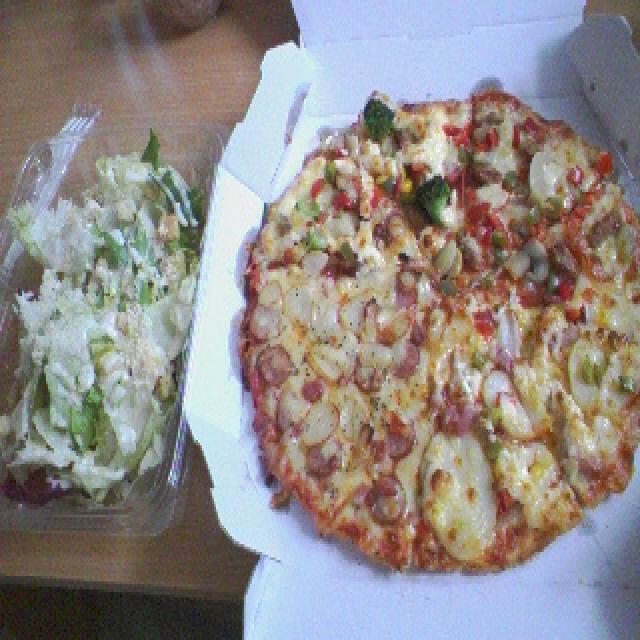Pizza: (225, 83, 640, 578)
